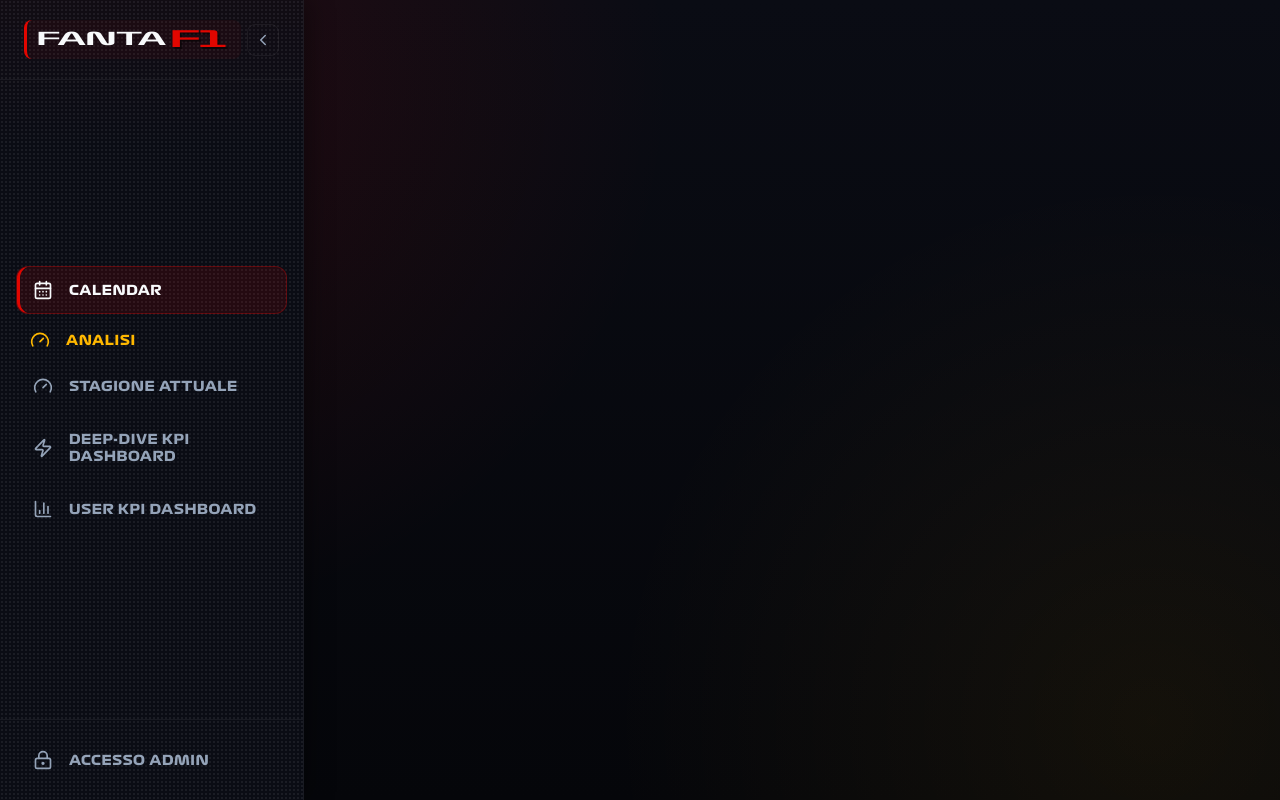
Sidebar Component › toggles collapsed state and hides labels
Expected: the text "Calendar" is shown, [69,283,162,297]
Click the button named "Chiudi sezioni". click: click(263, 40)
box: [247,24,279,56]
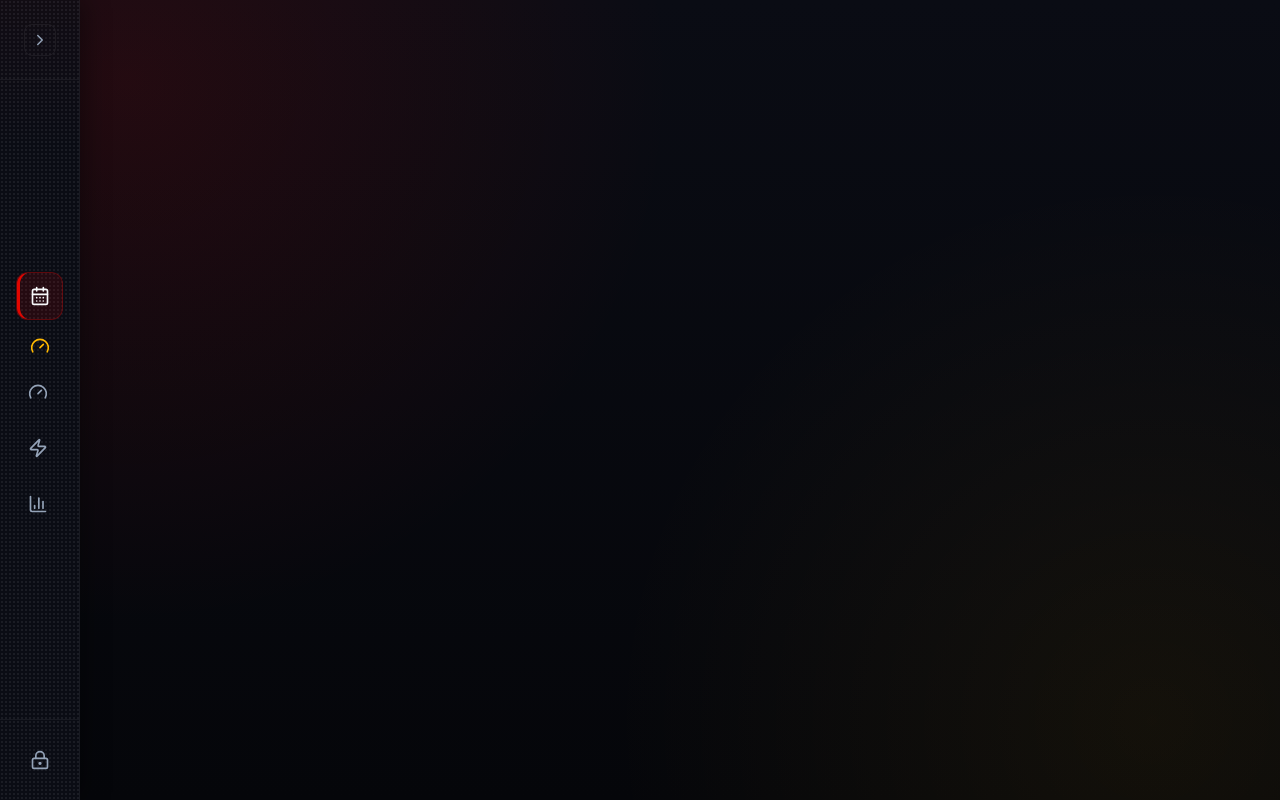
Expected: the text "Calendar" is gone
Click the button named "Sezioni". click: click(40, 40)
box: [24,24,56,56]
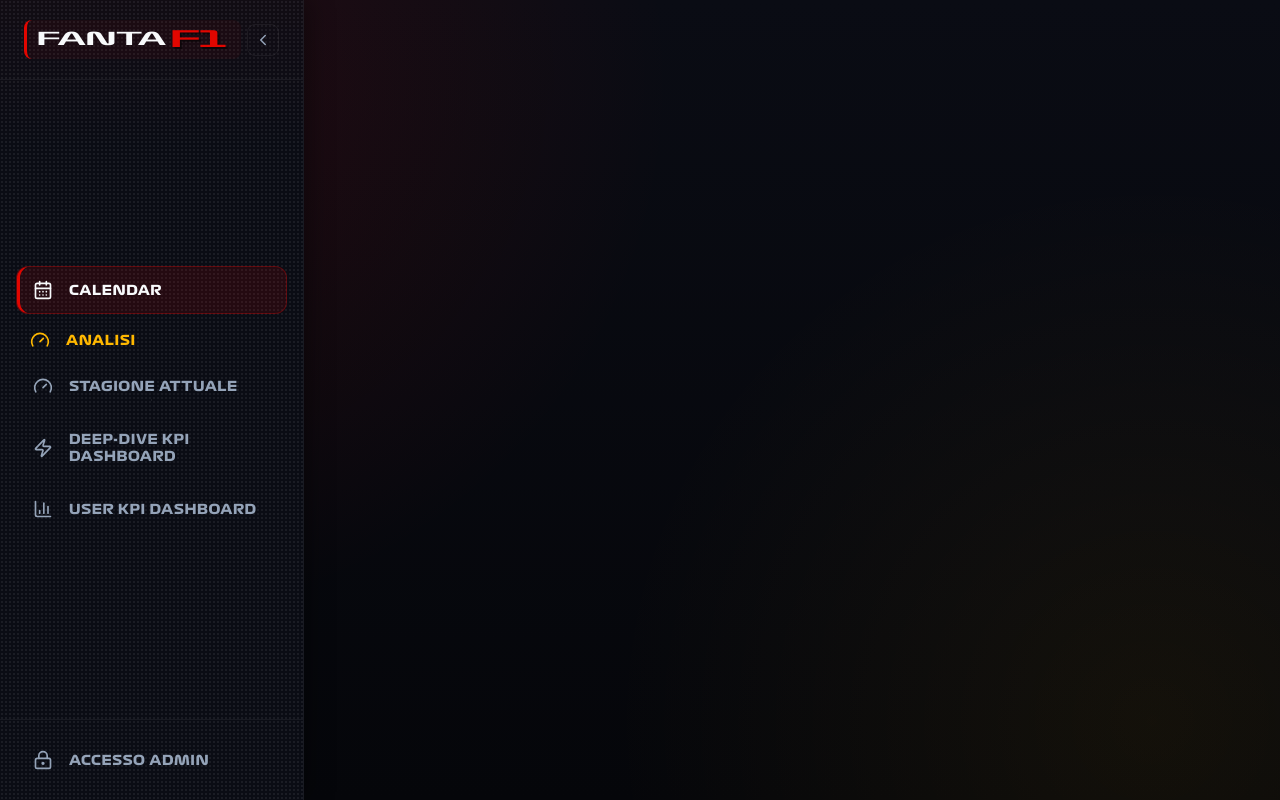
Expected: the text "Calendar" is shown, [69,283,162,297]
